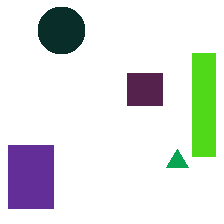circle: (38, 7, 84, 53)
rectangle: (8, 145, 53, 208), (192, 53, 215, 156), (127, 73, 162, 105)
triangle: (166, 149, 188, 167)
